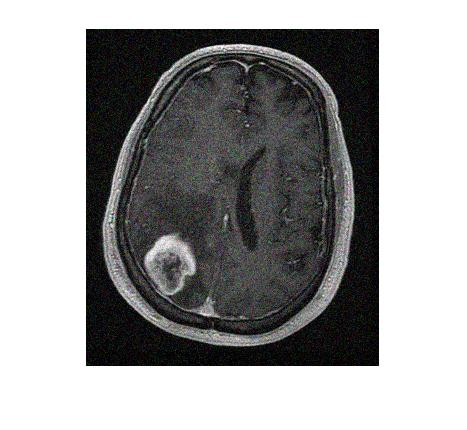Brain_Cancer: (141, 228, 198, 303)
